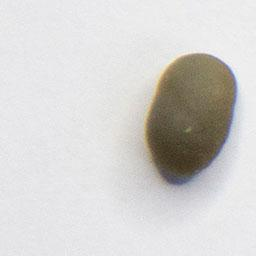peaberry: (141, 48, 242, 182)
